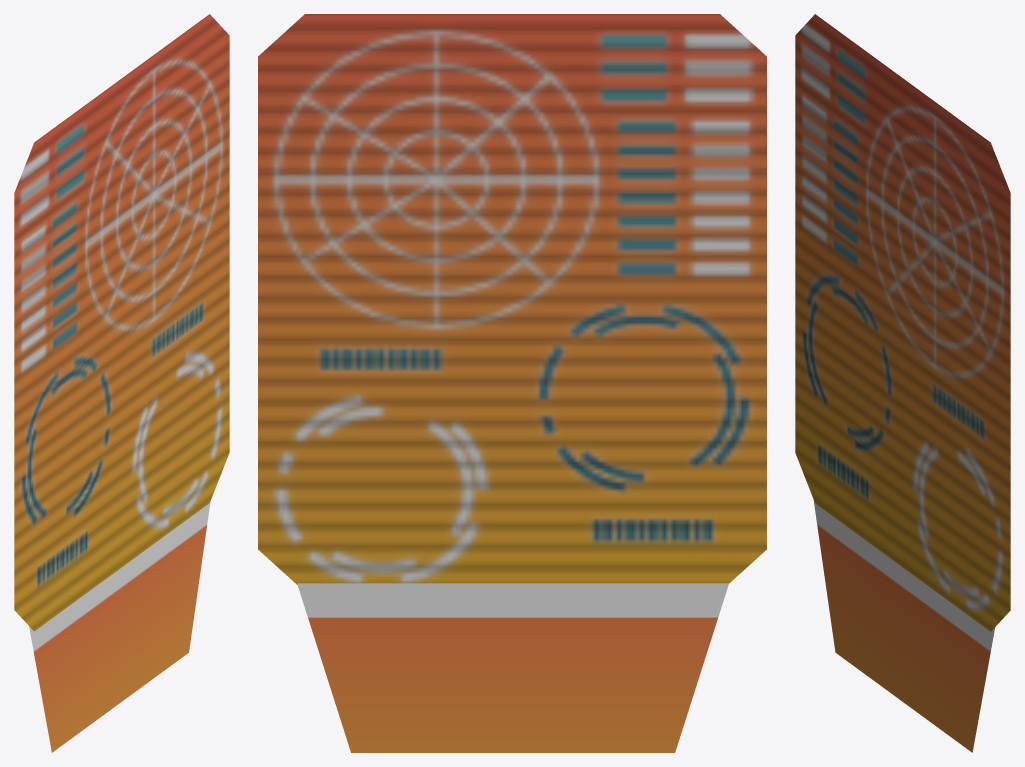
File: Terminal_016_monitor_001.fbx
The picture shows the model from 3 angles, left to right: view 1: azimuth 30°, elevation 25°; view 2: azimuth 150°, elevation 25°; view 3: azimuth 270°, elevation 25°; orthographic projection. The views are drawn at different scales.
Parts seen in each view (by area): view 1: Terminal_016_monitor_001; view 2: Terminal_016_monitor_001; view 3: Terminal_016_monitor_001.
Part boxes in pixels (x1,y1,x2,y2): Terminal_016_monitor_001: [14, 14, 229, 752]; Terminal_016_monitor_001: [258, 14, 766, 752]; Terminal_016_monitor_001: [795, 14, 1010, 752].
Bounding box in the file's own units: 36.82 × 21.26 × 68.05.
